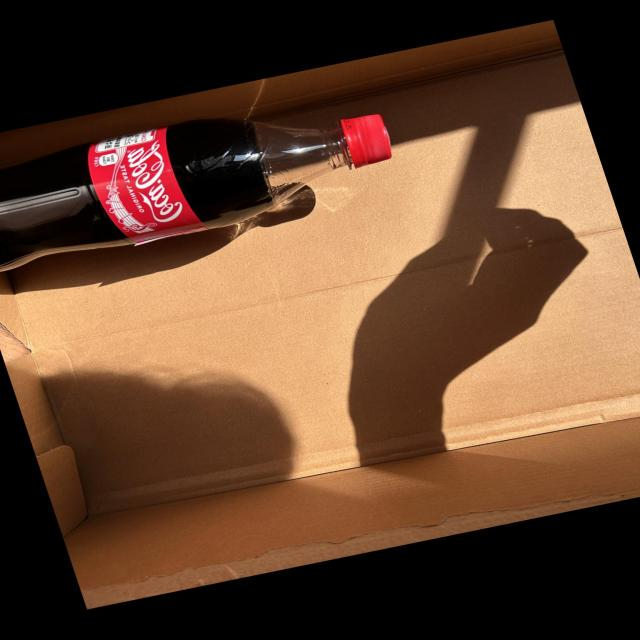high: (0, 114, 391, 270)
